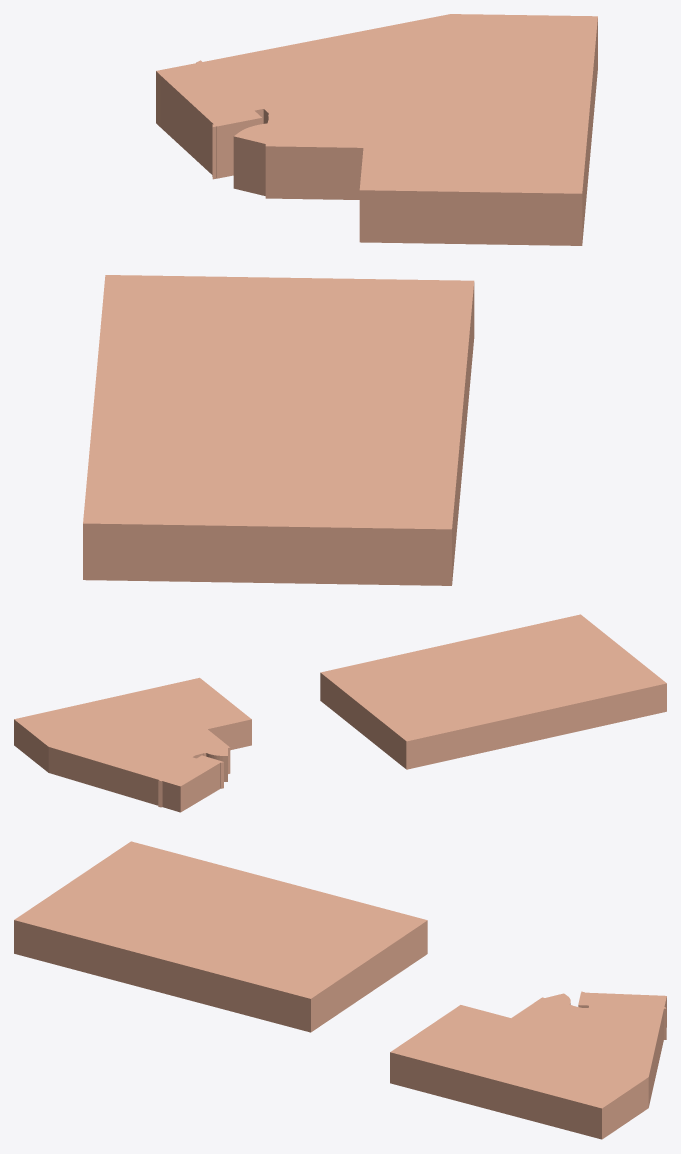
Rendered from buildings_existing-e14ec56962e9.glb.
3 renders of one model, top to bottom at view 1: azimuth 30°, elevation 25°; view 2: azimuth 150°, elevation 25°; view 3: azimuth 270°, elevation 25°, orthographic. The views are drawn at different scales.
Parts seen in each view (by area): view 1: BAG_0599100010060970, BAG_0599100000371373; view 2: BAG_0599100010060970, BAG_0599100000371373; view 3: BAG_0599100010060970, BAG_0599100000371373.
Part boxes in pixels (left/top/right/bottom): BAG_0599100010060970: left=83, top=275, right=474, bottom=585; BAG_0599100000371373: left=156, top=14, right=597, bottom=245; BAG_0599100010060970: left=320, top=614, right=666, bottom=769; BAG_0599100000371373: left=14, top=677, right=251, bottom=812; BAG_0599100010060970: left=14, top=841, right=427, bottom=1032; BAG_0599100000371373: left=390, top=991, right=666, bottom=1139.
Size of the model in its own units: 215 by 12.78 by 224.
